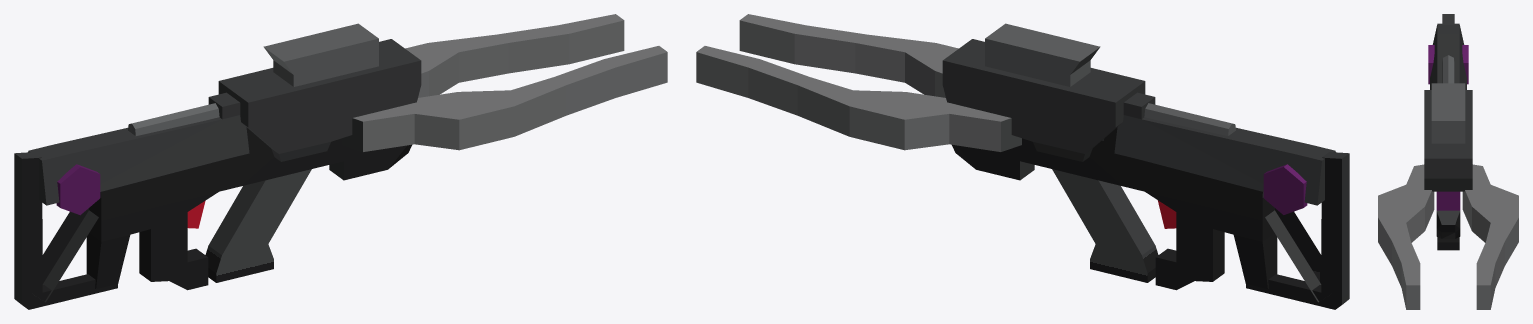
The model's file is Railgun.fbx.
3 renders of one model, left to right at view 1: azimuth 30°, elevation 25°; view 2: azimuth 150°, elevation 25°; view 3: azimuth 270°, elevation 25°, orthographic. The views are drawn at different scales.
Visible parts, largest first — view 1: mesh; view 2: mesh; view 3: mesh.
Boxes of the visible parts, <box> form: mesh: <box>14,14,667,309</box>; mesh: <box>696,14,1349,309</box>; mesh: <box>1378,14,1518,309</box>.
Bounding box in the file's own units: 93.57 × 29.99 × 22.5.
Materials: 1 (1 with a texture image).
